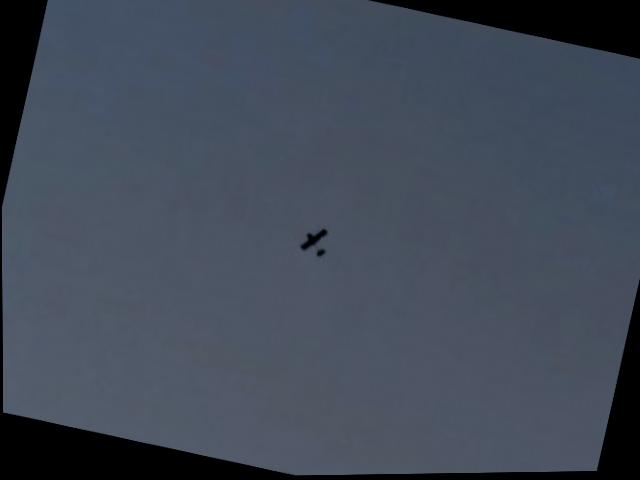uav: (290, 212, 337, 271)
